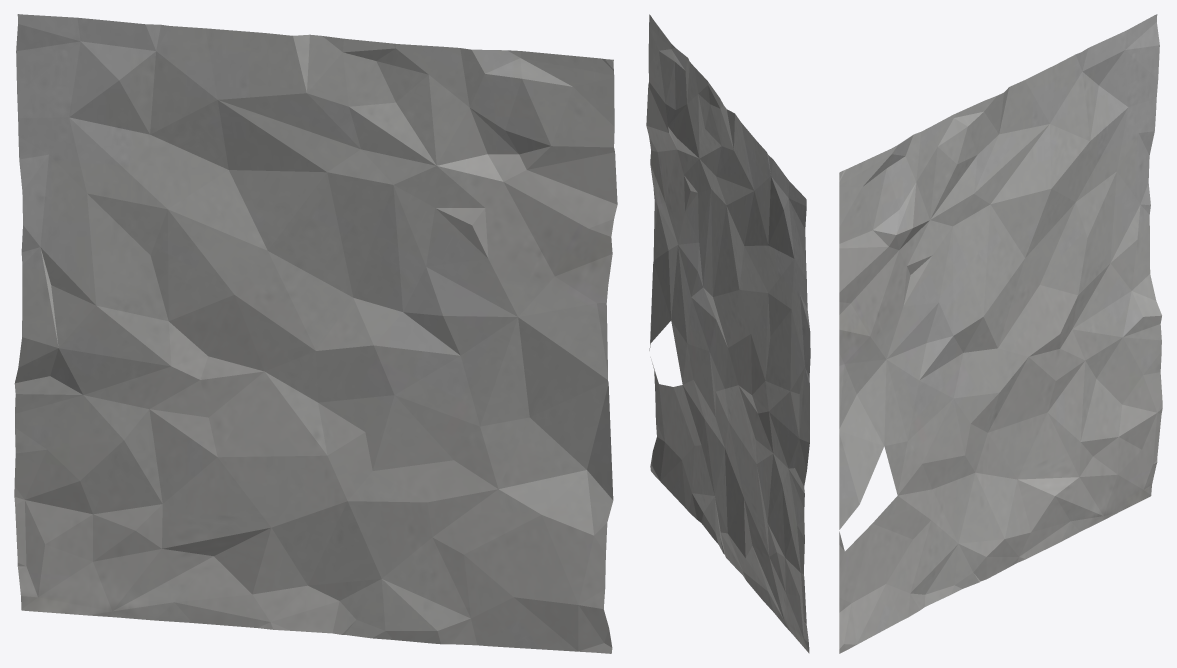
The picture shows the model from 3 angles, left to right: view 1: azimuth 30°, elevation 25°; view 2: azimuth 150°, elevation 25°; view 3: azimuth 270°, elevation 25°; orthographic projection. The views are drawn at different scales.
Size of the model in its own units: 0.5963 by 0.8374 by 0.5091.
Materials: 2 (2 with a texture image).
